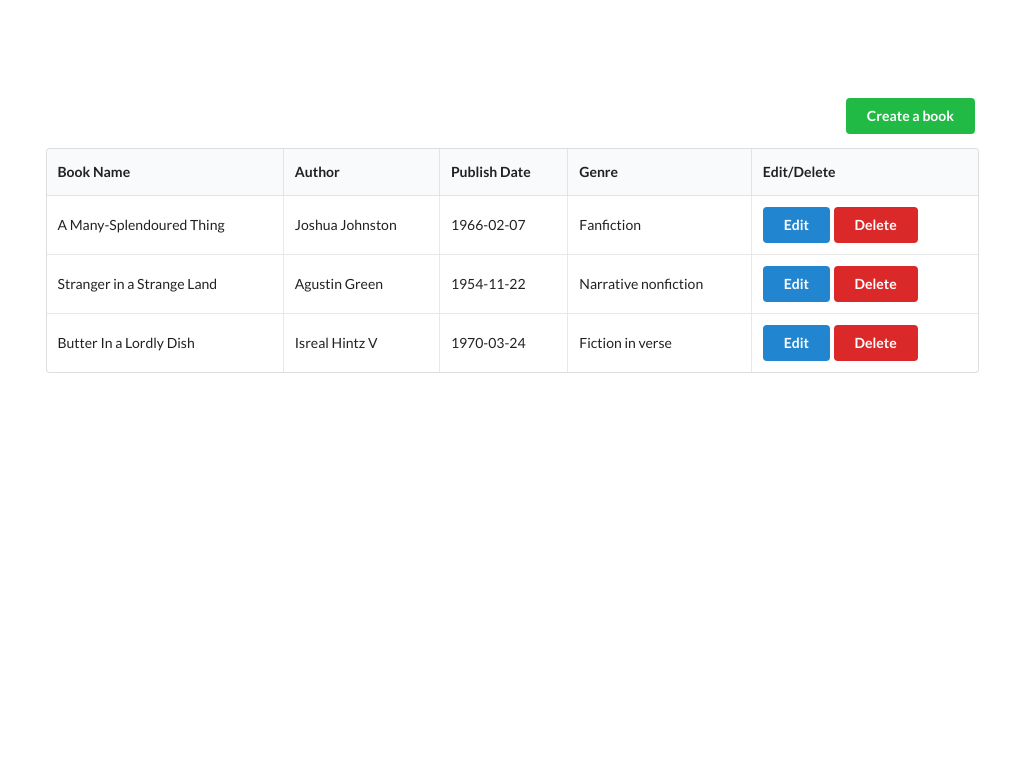
Test: opens delete modal when delete button clicked
Click the button "Delete" in the row of "A Many-Splendoured Thing" at (876, 225), box 834,207 -> 918,243
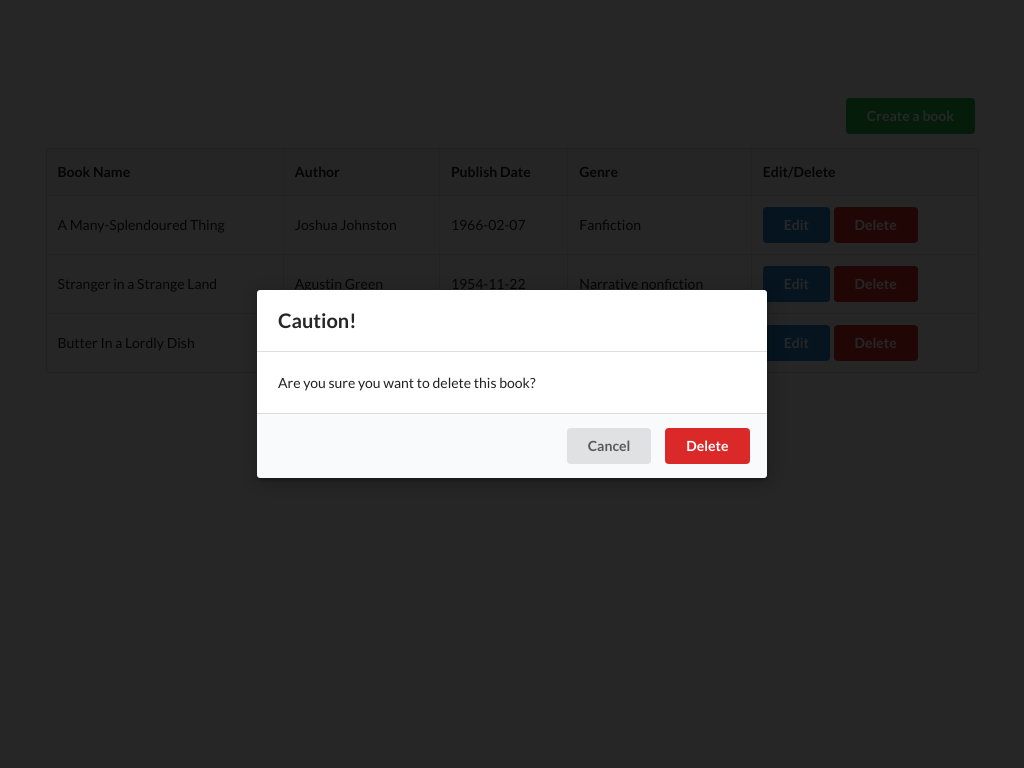
Result: the text "Caution!" is shown at 257,290 -> 767,352
